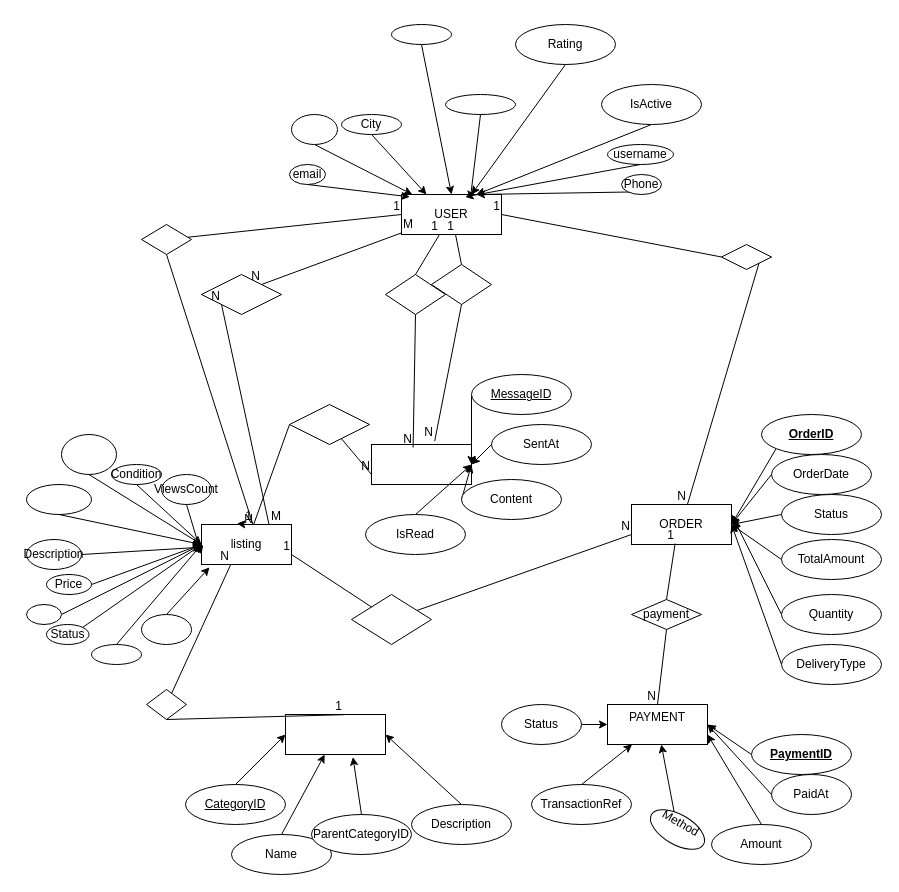
Some shapes in this 899 by 892 pixel diagram are drawn without their labels. Each missing label, with the box of its shape:
belongs to: (146, 688, 186, 720)
CATEGORY: (284, 714, 386, 754)
CreatedAt: (26, 604, 62, 624)
favorites: (200, 274, 282, 314)
IsPromoted: (140, 614, 192, 644)
ListingID: (60, 434, 116, 474)
Location: (90, 644, 142, 664)
makes: (720, 244, 772, 270)
MESSAGE: (370, 444, 472, 484)
ordered for: (350, 594, 432, 644)
password: (290, 114, 338, 144)
post: (140, 224, 192, 254)
receives: (430, 264, 492, 304)
RegistrationDate: (444, 94, 516, 114)
relates to: (288, 404, 370, 444)
sends: (384, 274, 446, 314)
Title: (26, 484, 92, 514)
UseID: (390, 24, 452, 44)
